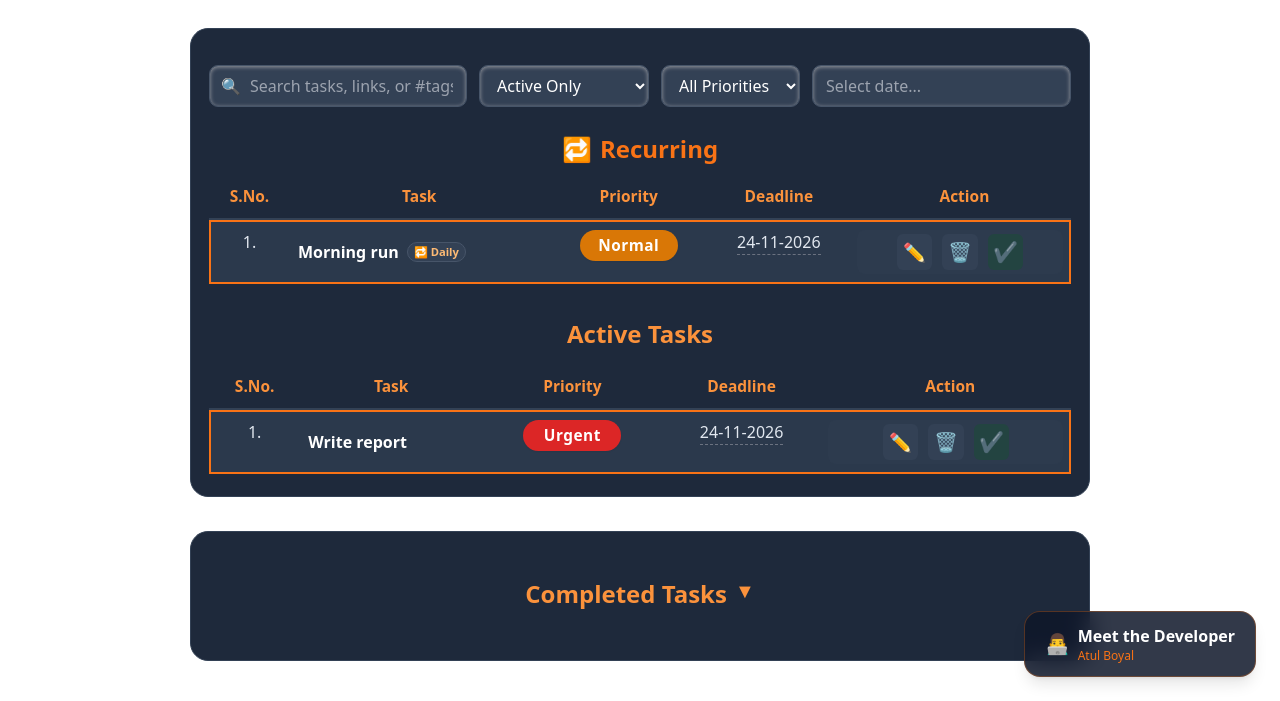
Test: Dashboard › shows completed tasks when the section is expanded
(page scrolled)
Click the element titled "Click to toggle visibility" at (640, 594), box x1=525 y1=577 x2=755 y2=610
(page scrolled)
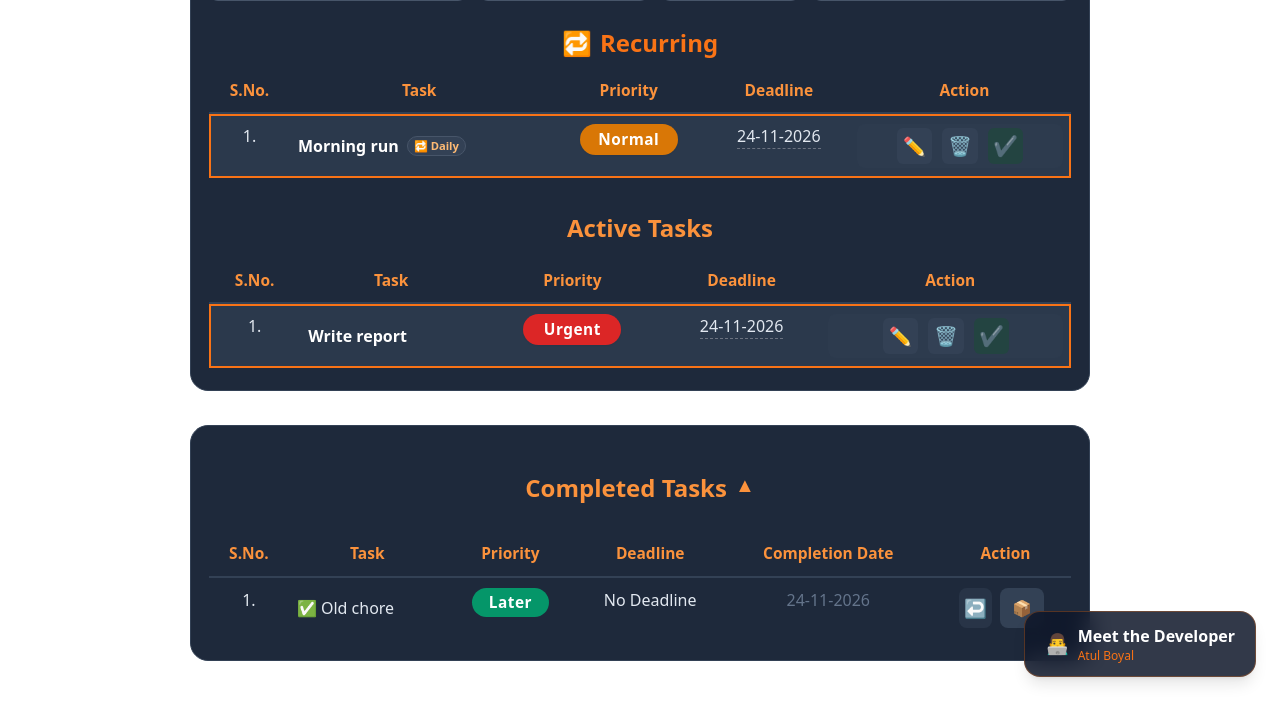
Expected: the text "Old chore" is shown, x1=321 y1=596 x2=394 y2=618
